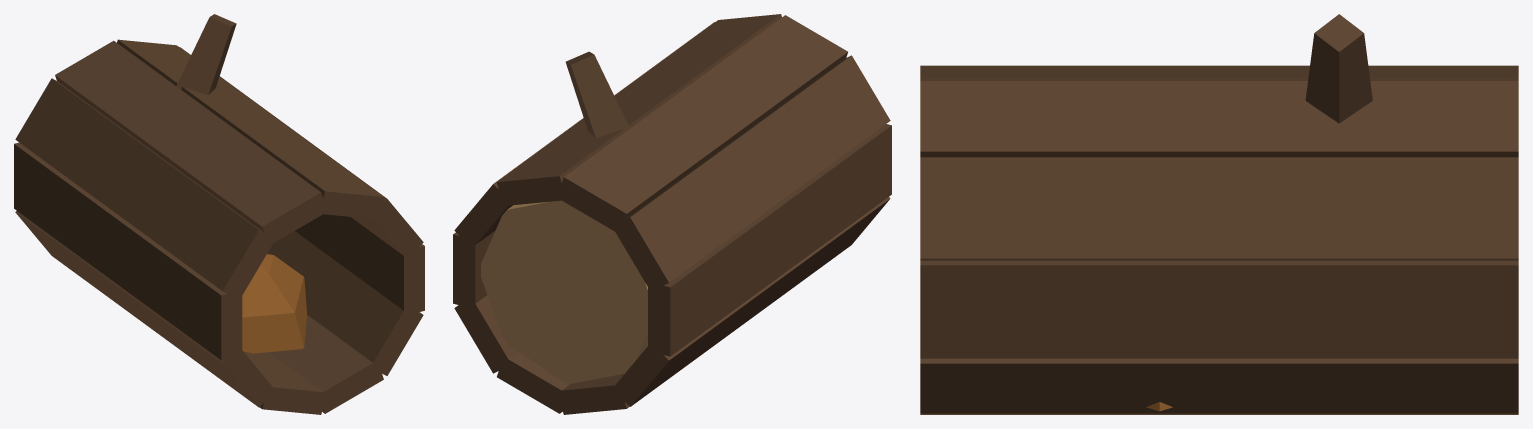
File: Prop_Hoard_Cache_Half_LOD1.glb
3 views of the same model, side by side, from view 1: azimuth 30°, elevation 25°; view 2: azimuth 150°, elevation 25°; view 3: azimuth 270°, elevation 25° (orthographic). The views are drawn at different scales.
Parts seen in each view (by area): view 1: Prop_Hoard_Cache_Half, Prop_Hoard_Cache_Half_Fill; view 2: Prop_Hoard_Cache_Half; view 3: Prop_Hoard_Cache_Half.
Part boxes in pixels (x1=…): Prop_Hoard_Cache_Half: x1=14, y1=14, x2=424, y2=414; Prop_Hoard_Cache_Half_Fill: x1=242, y1=254, x2=306, y2=353; Prop_Hoard_Cache_Half: x1=453, y1=14, x2=891, y2=414; Prop_Hoard_Cache_Half: x1=920, y1=14, x2=1518, y2=414.
Size of the model in its own units: 0.34 by 0.4526 by 0.6.
